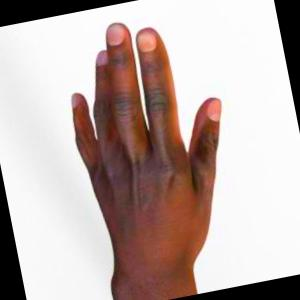paper: (71, 22, 221, 300)
